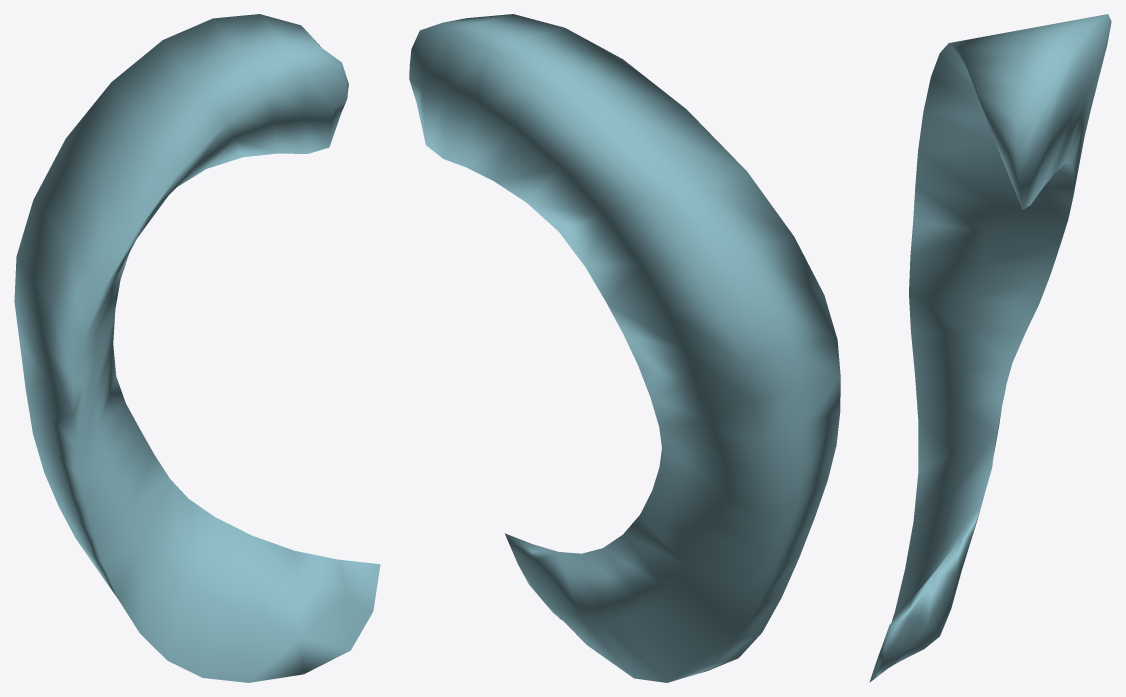
3 views of the same model, side by side, from view 1: azimuth 30°, elevation 25°; view 2: azimuth 150°, elevation 25°; view 3: azimuth 270°, elevation 25° (orthographic). The views are drawn at different scales.
Visible parts, largest first — view 1: 左侧内侧半月板; view 2: 左侧内侧半月板; view 3: 左侧内侧半月板.
Part boxes in pixels (x1=…): 左侧内侧半月板: x1=14, y1=14, x2=380, y2=682; 左侧内侧半月板: x1=409, y1=14, x2=840, y2=682; 左侧内侧半月板: x1=869, y1=14, x2=1111, y2=682.
Size of the model in its own units: 0.038 by 0.0659 by 0.022.
